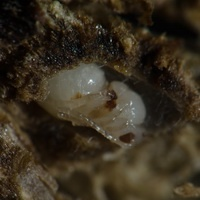insect: (36, 61, 146, 149)
